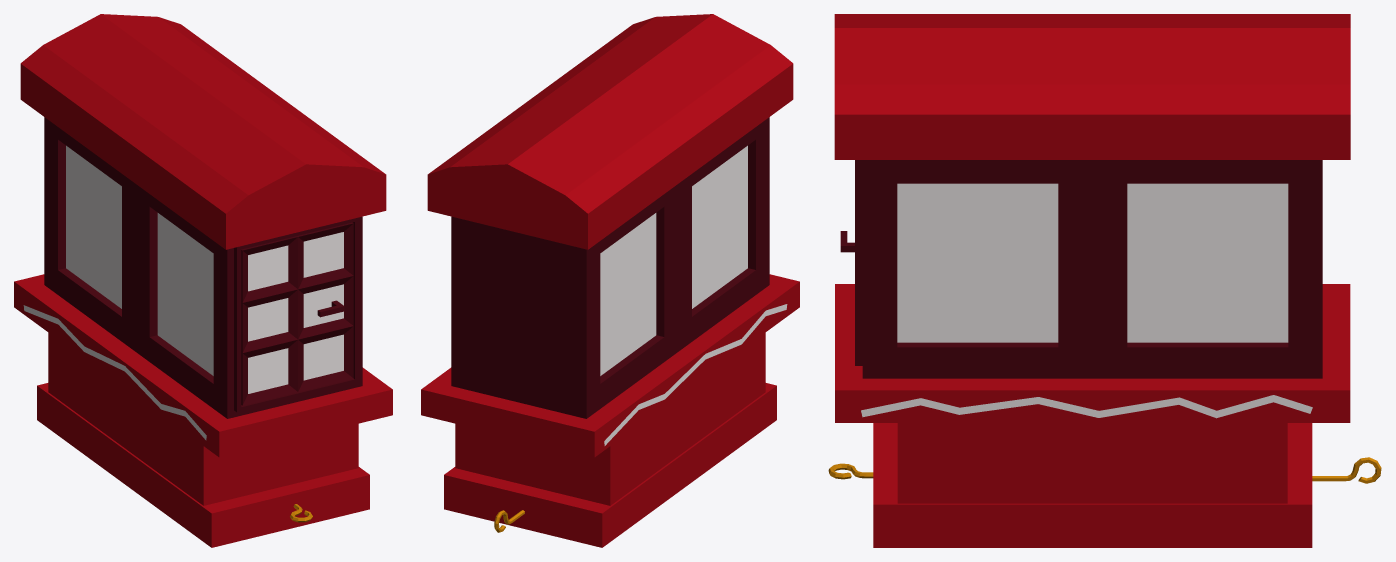
Rendered from Train_SmallCar.obj.
The picture shows the model from 3 angles, left to right: view 1: azimuth 30°, elevation 25°; view 2: azimuth 150°, elevation 25°; view 3: azimuth 270°, elevation 25°; orthographic projection. The views are drawn at different scales.
Visible parts, largest first — view 1: Cylinder.011_Material.001, Cylinder.011_Material.002; view 2: Cylinder.011_Material.001, Cylinder.011_Material.002; view 3: Cylinder.011_Material.001, Cylinder.011_Material.002.
Boxes of the visible parts, left/top/right/bottom form: Cylinder.011_Material.001: left=14, top=14, right=392, bottom=547; Cylinder.011_Material.002: left=66, top=145, right=213, bottom=375; Cylinder.011_Material.001: left=421, top=14, right=799, bottom=547; Cylinder.011_Material.002: left=600, top=145, right=747, bottom=375; Cylinder.011_Material.001: left=828, top=14, right=1381, bottom=547; Cylinder.011_Material.002: left=897, top=183, right=1288, bottom=342.
Bounding box in the file's own units: 1.13 × 2.34 × 2.49.
